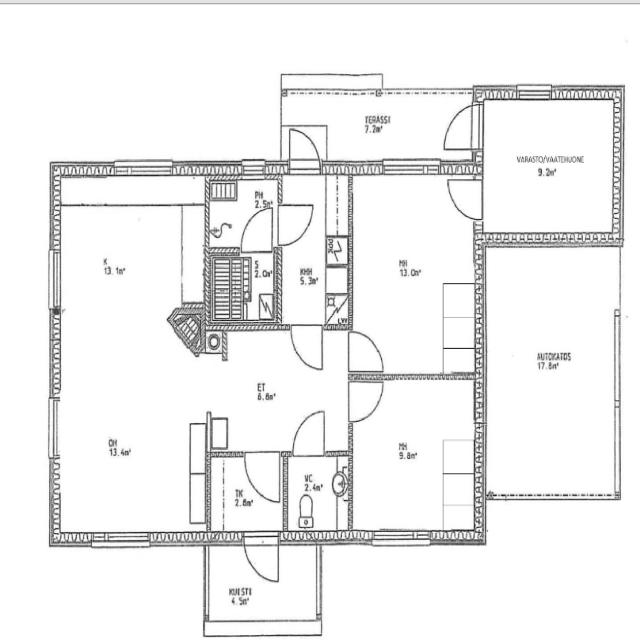door: (283, 419, 349, 537), (210, 179, 283, 255), (276, 188, 326, 284), (241, 448, 284, 508), (241, 528, 281, 587), (439, 98, 480, 154), (288, 406, 329, 460), (286, 123, 326, 177), (288, 319, 327, 374), (239, 203, 278, 256), (274, 197, 315, 247), (346, 377, 386, 425), (347, 324, 385, 371), (447, 176, 483, 221)
window: (41, 244, 65, 316), (41, 392, 64, 466), (368, 525, 432, 550), (90, 528, 151, 553), (380, 155, 440, 179), (113, 156, 174, 179), (237, 156, 269, 182), (516, 81, 553, 102)
zone: (50, 200, 208, 541), (478, 232, 626, 512), (343, 170, 475, 376), (347, 372, 484, 536), (477, 92, 621, 243), (276, 178, 350, 323), (282, 451, 353, 538), (207, 175, 284, 255), (210, 249, 278, 325)
